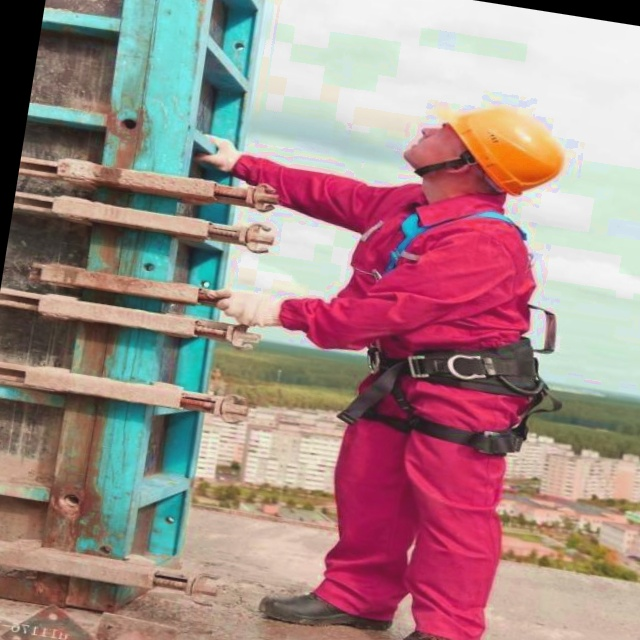Con_Casco: (387, 91, 574, 210)
